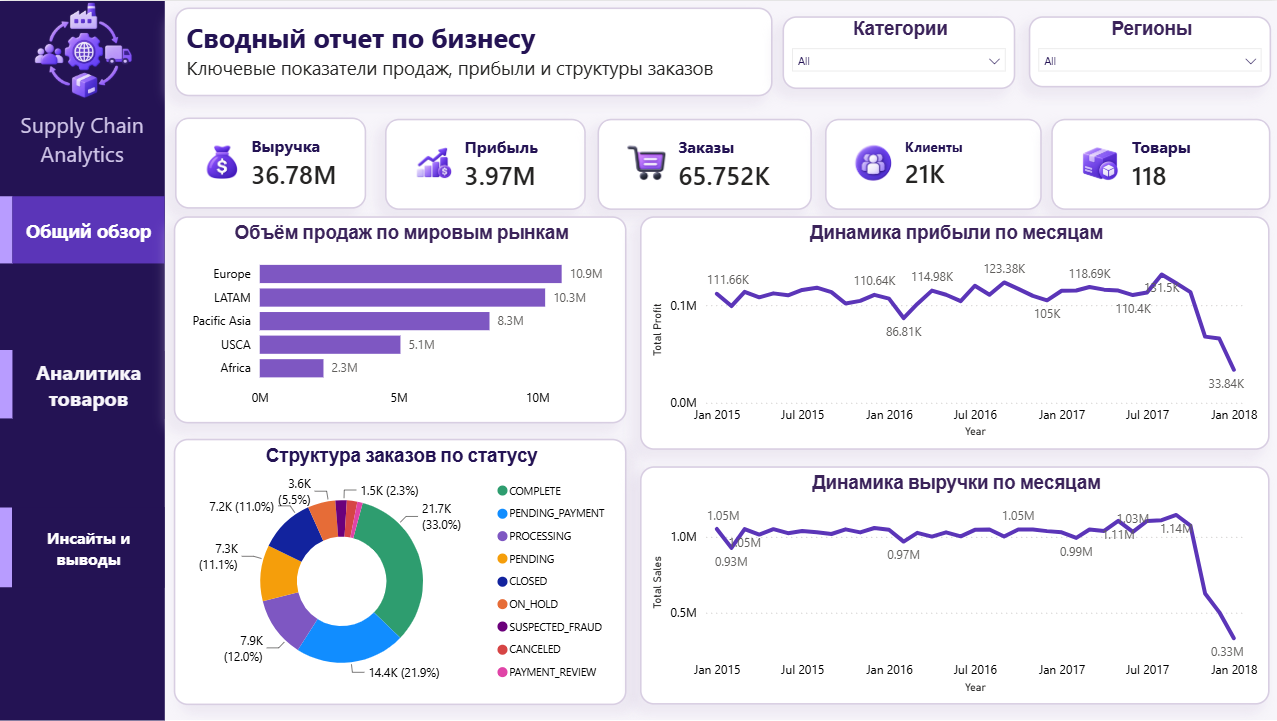

What the dashboard file says about the page in this screenshot:
{"tool":"powerbi","page":{"name":"Общий обзор","canvas":[1280,720],"ordinal":0},"visuals":[{"type":"cardVisual","fields":{"Data":["DataCoSupplyChainDataset.Total Profit"]},"box":[385.3,118.2,200.7,91.1],"z":0},{"type":"cardVisual","fields":{"Data":["DataCoSupplyChainDataset.Total Sales"]},"box":[175.1,118,191.6,91.3],"z":1000},{"type":"shape","box":[0,0,164.9,720.6],"z":2000},{"type":"actionButton","box":[12.5,351.2,152.2,67.2],"z":3000},{"type":"shape","box":[0,196.3,12.4,67.2],"z":4000},{"type":"actionButton","box":[12.3,196.3,152.2,67.2],"z":9000},{"type":"shape","box":[0,350,12.4,68.4],"z":10000},{"type":"textbox","box":[0,87.1,164.4,100.6],"z":11000},{"type":"textbox","box":[175,8,597.5,88.8],"z":12000},{"type":"cardVisual","fields":{"Data":["DataCoSupplyChainDataset.Total Orders"]},"box":[597,118.2,214.4,91.3],"z":13000},{"type":"cardVisual","fields":{"Data":["DataCoSupplyChainDataset.Total Customers"]},"box":[824.8,118.2,216.7,91.1],"z":14000},{"type":"slicer","title":"Регионы","fields":{"Values":["DimMarket.Market"]},"box":[1028.8,16.2,242.5,71.2],"z":15000},{"type":"image","box":[22.1,0,121.5,103.1],"z":16000},{"type":"slicer","title":"Категории","fields":{"Values":["DimProduct.Category Name"]},"box":[782.5,16.2,232.5,72.5],"z":17000},{"type":"cardVisual","fields":{"Data":["DataCoSupplyChainDataset.Total Products"]},"box":[1051.3,118.2,219.5,91.3],"z":18000},{"type":"clusteredBarChart","title":"Объём продаж по мировым рынкам","fields":{"Category":["DimMarket.Market"],"Y":["DataCoSupplyChainDataset.Total Sales"]},"box":[174.3,216.8,452.8,207.2],"z":20000},{"type":"donutChart","title":"Структура заказов по статусу","fields":{"Category":["DataCoSupplyChainDataset.Order Status"],"Y":["DataCoSupplyChainDataset.Total Orders"]},"box":[174.3,439.1,452.8,266.2],"z":21000},{"type":"lineChart","title":"Динамика выручки по месяцам","fields":{"Category":["DimDate.Month Start"],"Y":["DataCoSupplyChainDataset.Total Sales"]},"box":[639.5,466.6,629.8,238.8],"z":22000},{"type":"actionButton","box":[12.5,507.5,152.2,79.9],"z":23000},{"type":"shape","box":[0,507.5,12.3,79.8],"z":24000},{"type":"lineChart","title":"Динамика прибыли по месяцам","fields":{"Category":["DimDate.Month Start"],"Y":["Measure.Total Profit"]},"box":[639.5,216.8,629.8,233.3],"z":25000}]}

Visuals, with their boxes on the page's 1280x720 design canvas (x1, y1, x2, y2). These are canvas units, not pixel positions in the 1277x721 screenshot, which may show the page scaled, cropped or inside an application window:
cardVisual - DataCoSupplyChainDataset.Total Profit: 385:118:586:209
cardVisual - DataCoSupplyChainDataset.Total Sales: 175:118:367:209
shape: 0:0:165:721
actionButton: 12:351:165:418
shape: 0:196:12:264
actionButton: 12:196:164:264
shape: 0:350:12:418
textbox: 0:87:164:188
textbox: 175:8:772:97
cardVisual - DataCoSupplyChainDataset.Total Orders: 597:118:811:210
cardVisual - DataCoSupplyChainDataset.Total Customers: 825:118:1042:209
"Регионы" slicer: 1029:16:1271:87
image: 22:0:144:103
"Категории" slicer: 782:16:1015:89
cardVisual - DataCoSupplyChainDataset.Total Products: 1051:118:1271:210
"Объём продаж по мировым рынкам" clusteredBarChart: 174:217:627:424
"Структура заказов по статусу" donutChart: 174:439:627:705
"Динамика выручки по месяцам" lineChart: 640:467:1269:705
actionButton: 12:508:165:587
shape: 0:508:12:587
"Динамика прибыли по месяцам" lineChart: 640:217:1269:450
